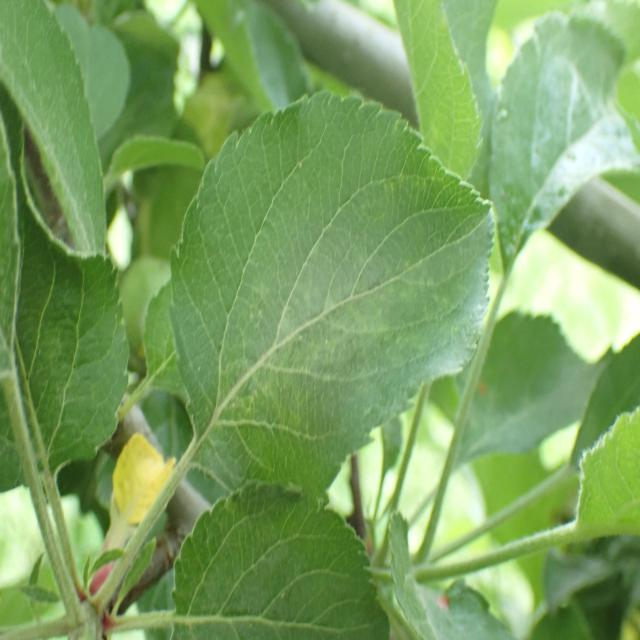scab: (214, 233, 463, 412)
